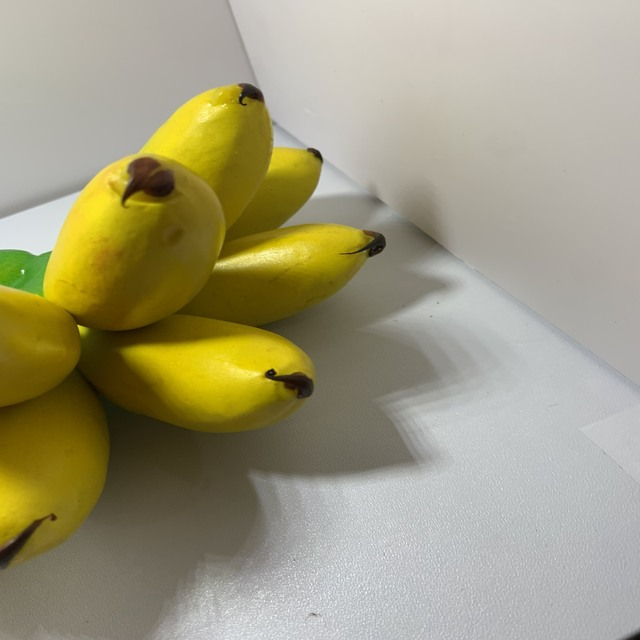Chuoi: (0, 70, 385, 580)
